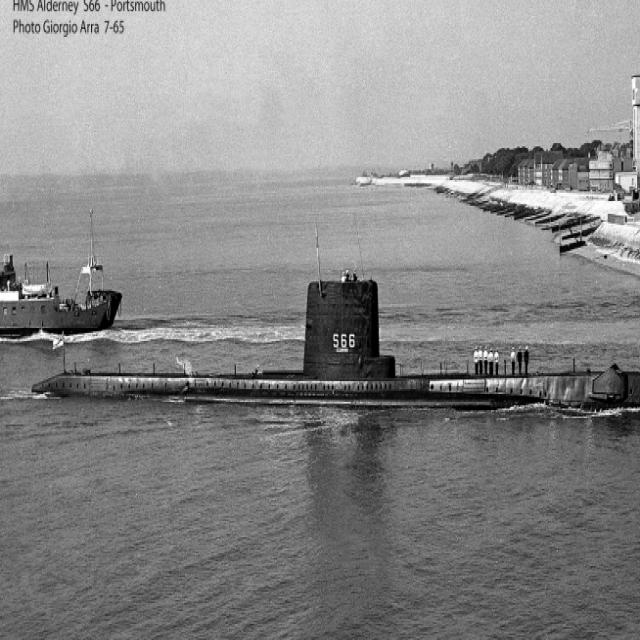submarine: (33, 277, 640, 408)
